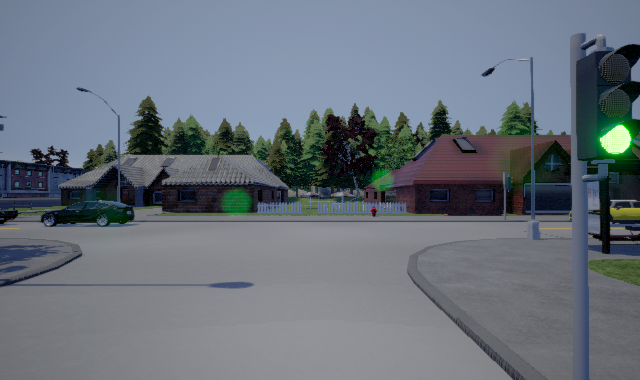traffic_light: (576, 34, 640, 182)
vehicle: (41, 200, 135, 227), (610, 200, 640, 224)
